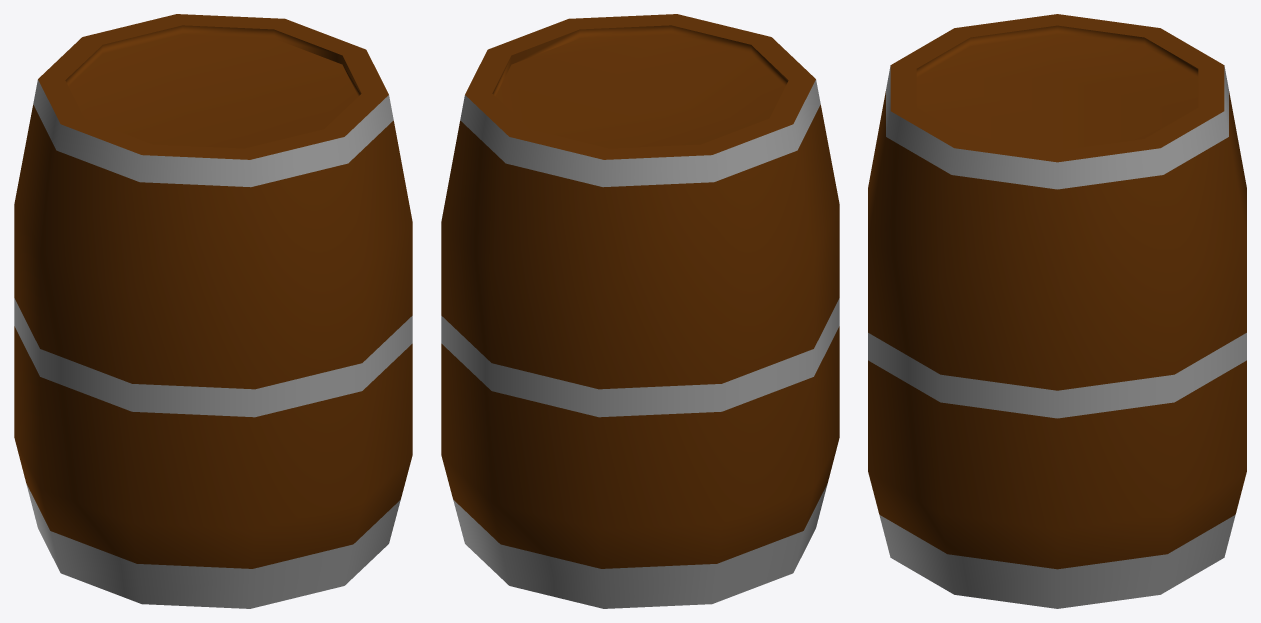
The model's file is Barrel.fbx.
3 views of the same model, side by side, from view 1: azimuth 30°, elevation 25°; view 2: azimuth 150°, elevation 25°; view 3: azimuth 270°, elevation 25° (orthographic).
Parts seen in each view (by area): view 1: Barrel; view 2: Barrel; view 3: Barrel.
Boxes of the visible parts, x1,y1,x2,y2 form: Barrel: (14, 14, 412, 608); Barrel: (441, 14, 839, 608); Barrel: (868, 14, 1246, 608).
Bounding box in the file's own units: 25.96 × 32.11 × 24.69.
